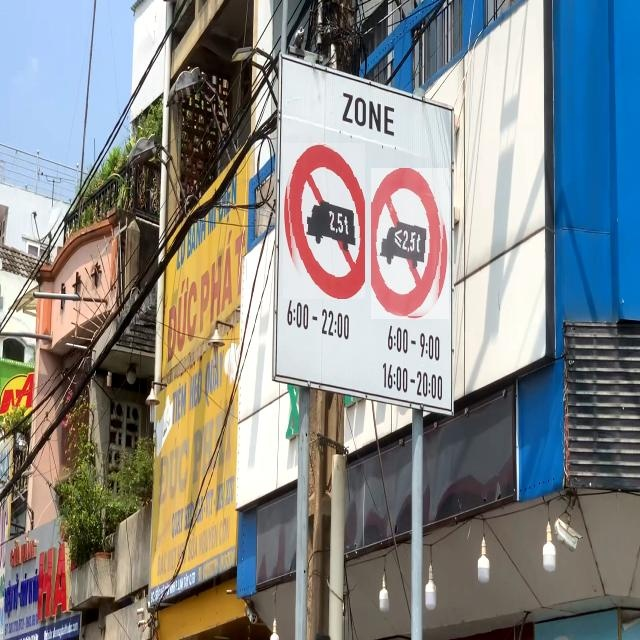bien_cam: (283, 143, 365, 299), (372, 168, 449, 319)
